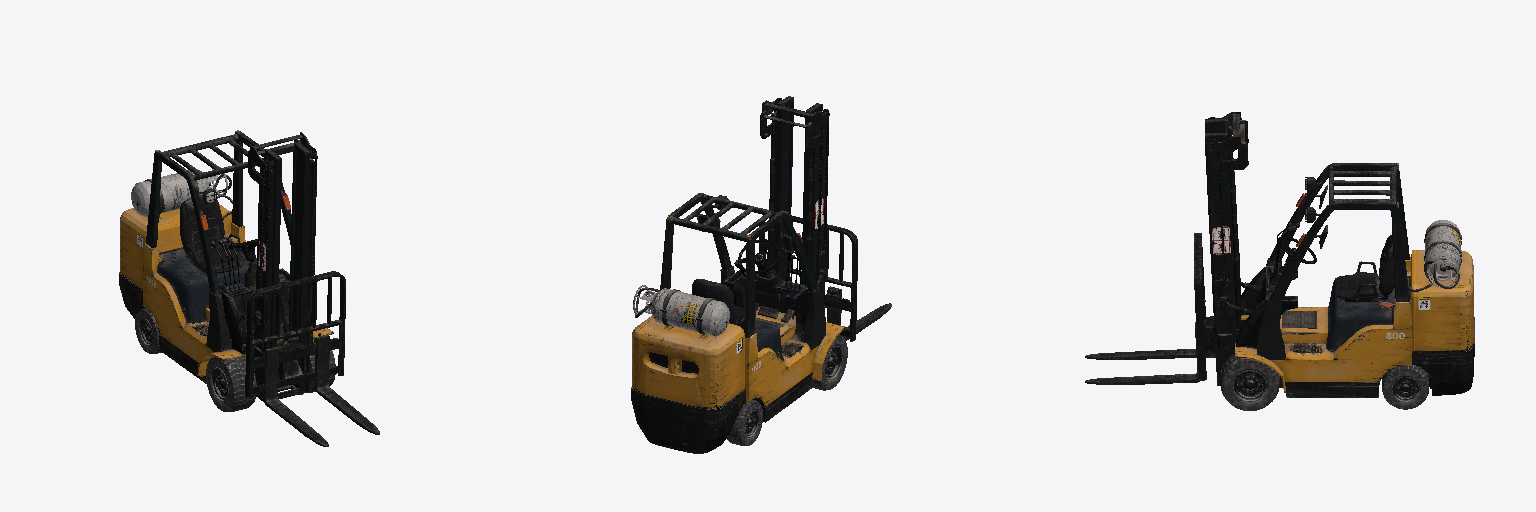
3 renders of one model, left to right at view 1: azimuth 30°, elevation 25°; view 2: azimuth 150°, elevation 25°; view 3: azimuth 270°, elevation 25°, orthographic.
Parts seen in each view (by area): view 1: obj11, obj8, obj1, obj5, obj7, obj10; view 2: obj11, obj8, obj5, obj1, obj10, obj7; view 3: obj11, obj8, obj1, obj5, obj7, obj10.
Boxes of the visible parts, box(x1,y1,x2,y2) form: obj11: box(119, 131, 333, 383); obj8: box(245, 132, 379, 446); obj1: box(135, 308, 335, 411); obj5: box(131, 167, 227, 216); obj7: box(254, 147, 317, 379); obj10: box(154, 130, 278, 380); obj11: box(631, 193, 845, 453); obj8: box(758, 96, 891, 341); obj5: box(633, 285, 729, 336); obj1: box(726, 334, 847, 445); obj10: box(666, 215, 802, 328); obj7: box(774, 98, 829, 305); obj11: box(1235, 163, 1474, 397); obj8: box(1085, 112, 1248, 385); obj1: box(1221, 354, 1428, 410); obj5: box(1425, 220, 1460, 287); obj7: box(1204, 117, 1225, 357); obj10: box(1267, 163, 1432, 388).
Size of the model in its own units: 1.16 by 2.62 by 3.51.
2 materials, 2 textured.